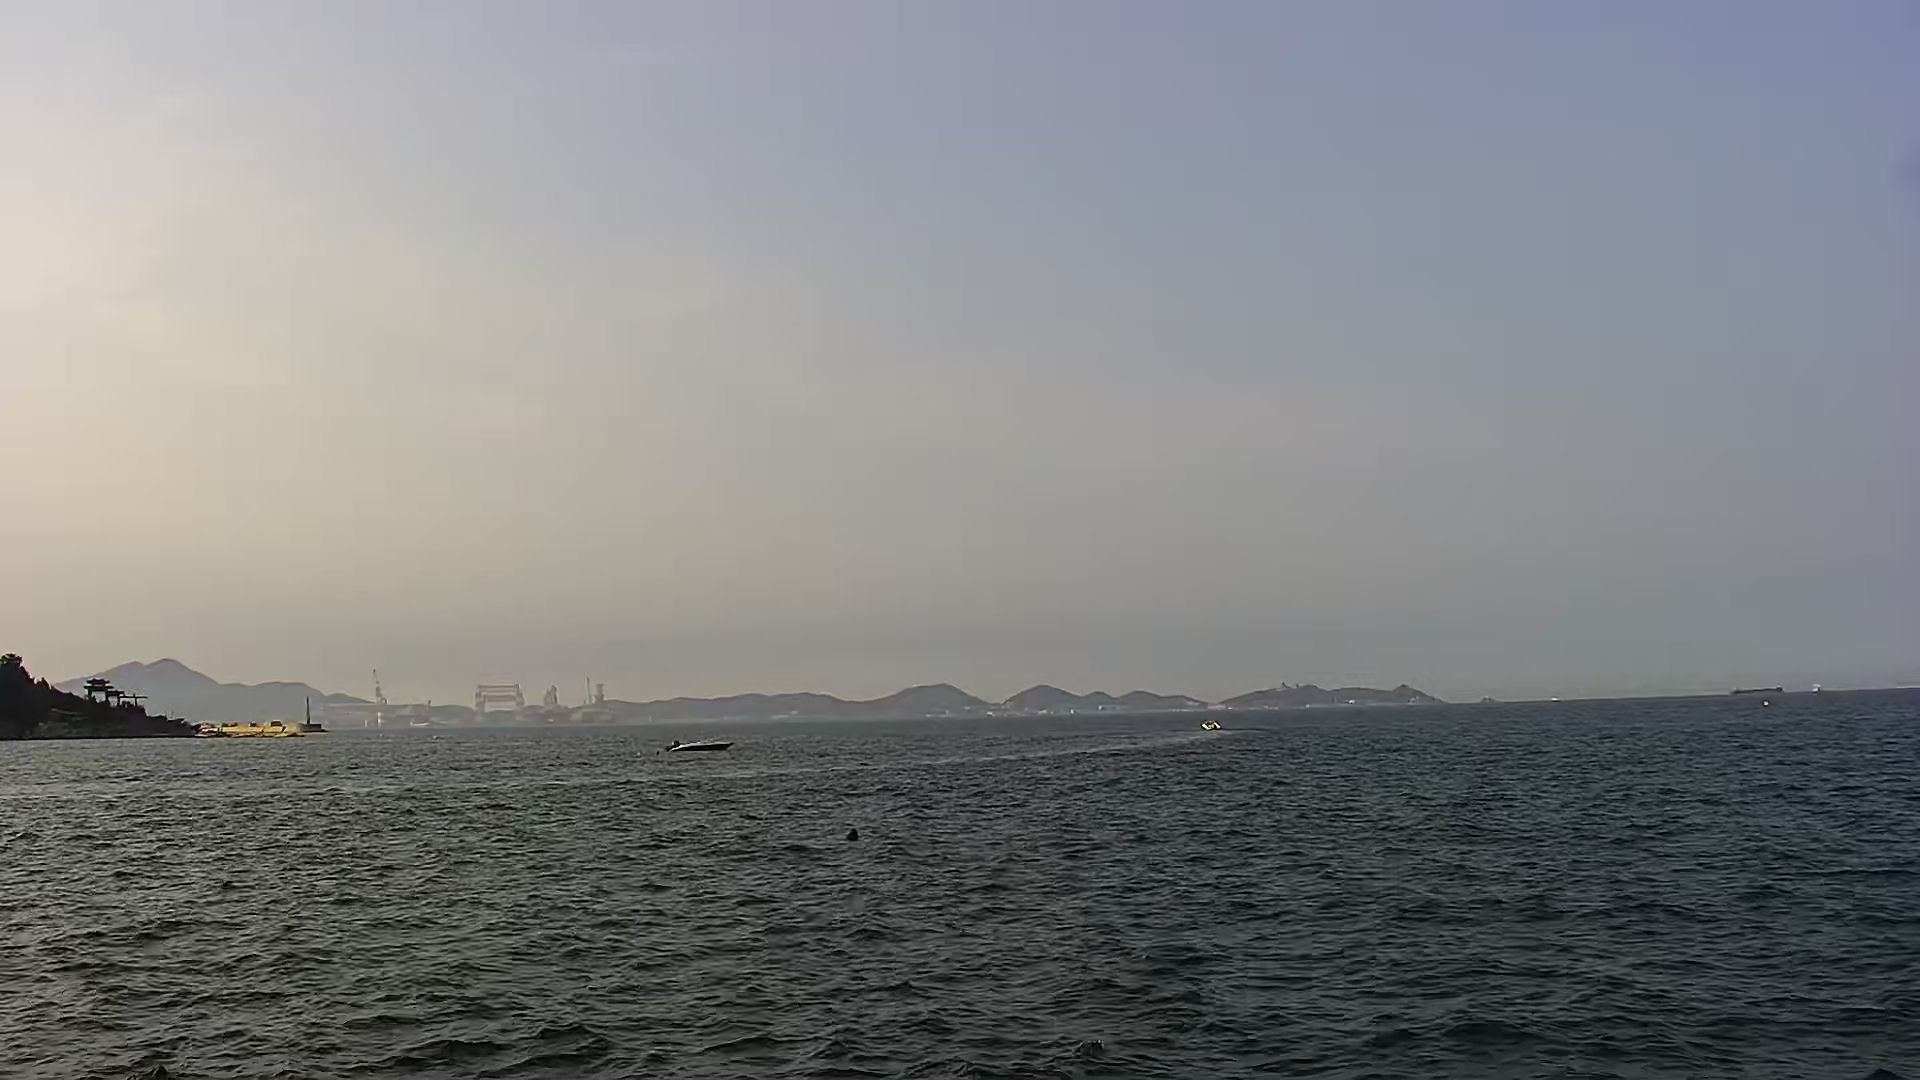boat: (667, 727, 733, 753)
